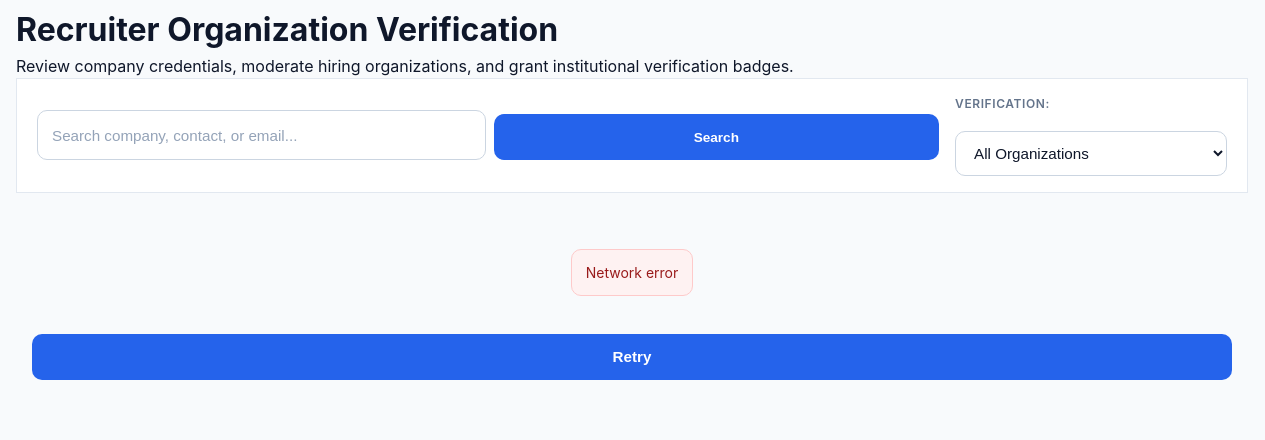
Test: AdminRecruitersPage Component › renders error state on fetch failure and retries
Expected: the text "Network error" is shown, left=586, top=262, right=678, bottom=283
Click the button with test id "retry-recruiters-btn": (632, 357) left=32, top=334, right=1232, bottom=380
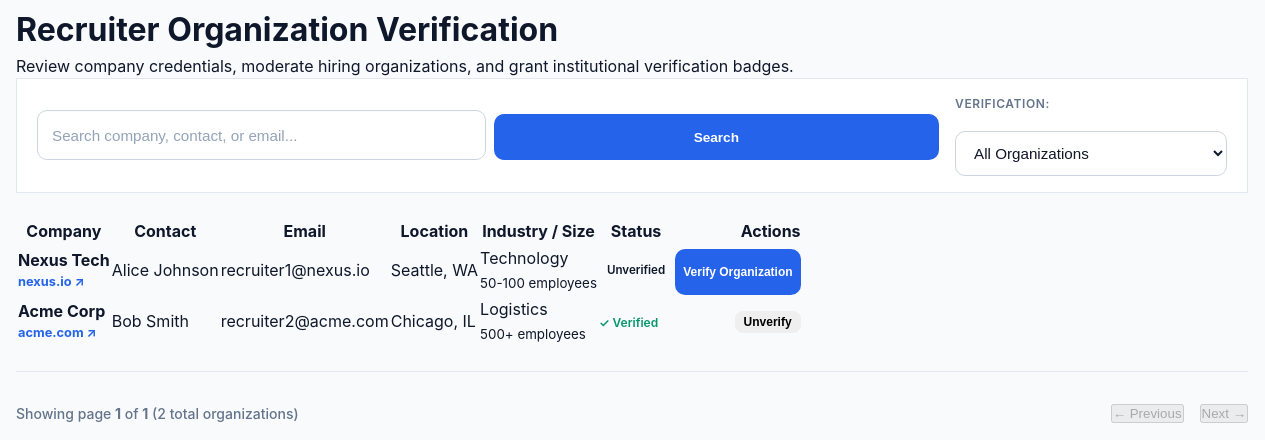
Expected: the text "Nexus Tech" is shown, left=18, top=250, right=110, bottom=270
